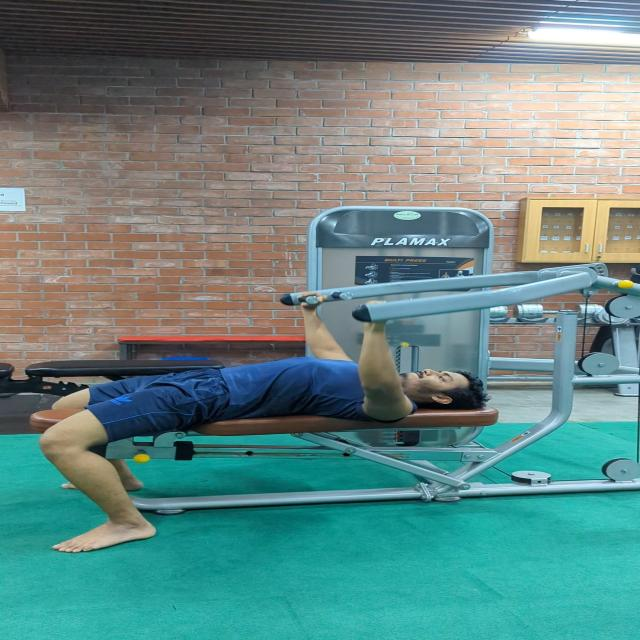Normal_BrenchPress: (18, 285, 512, 569)
